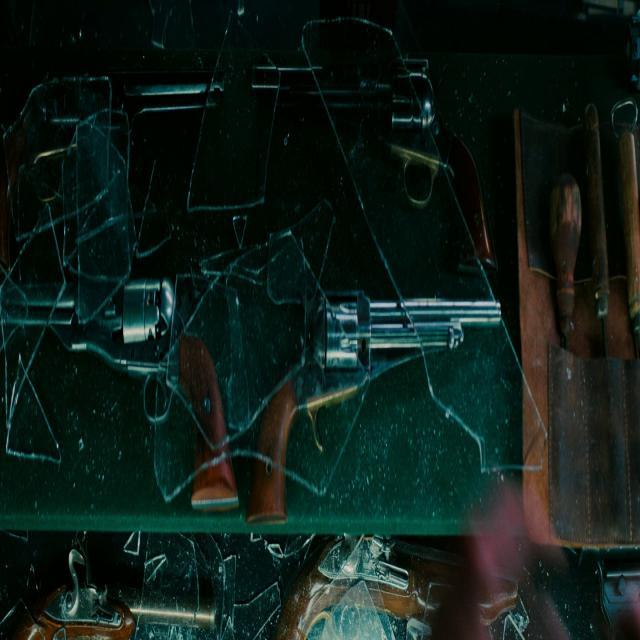gun-knife-thesis - v11 Yolov5 augmented: (248, 282, 502, 524), (8, 281, 234, 513)
